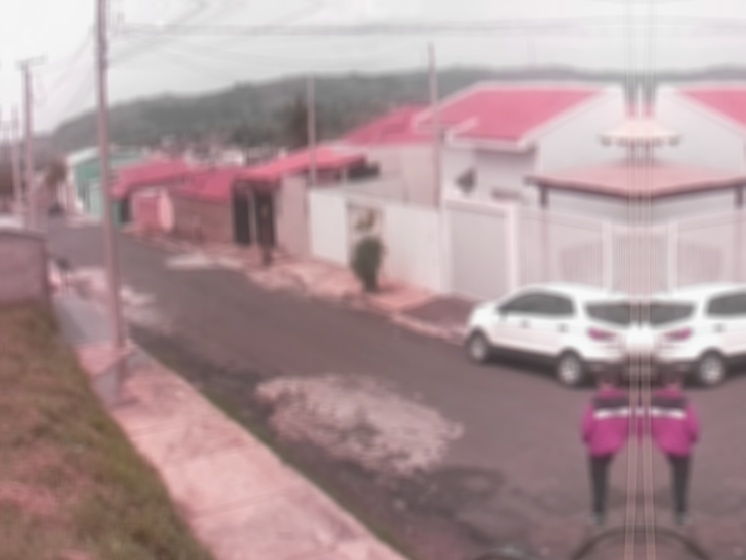person: (576, 367, 646, 525), (644, 367, 702, 519)
